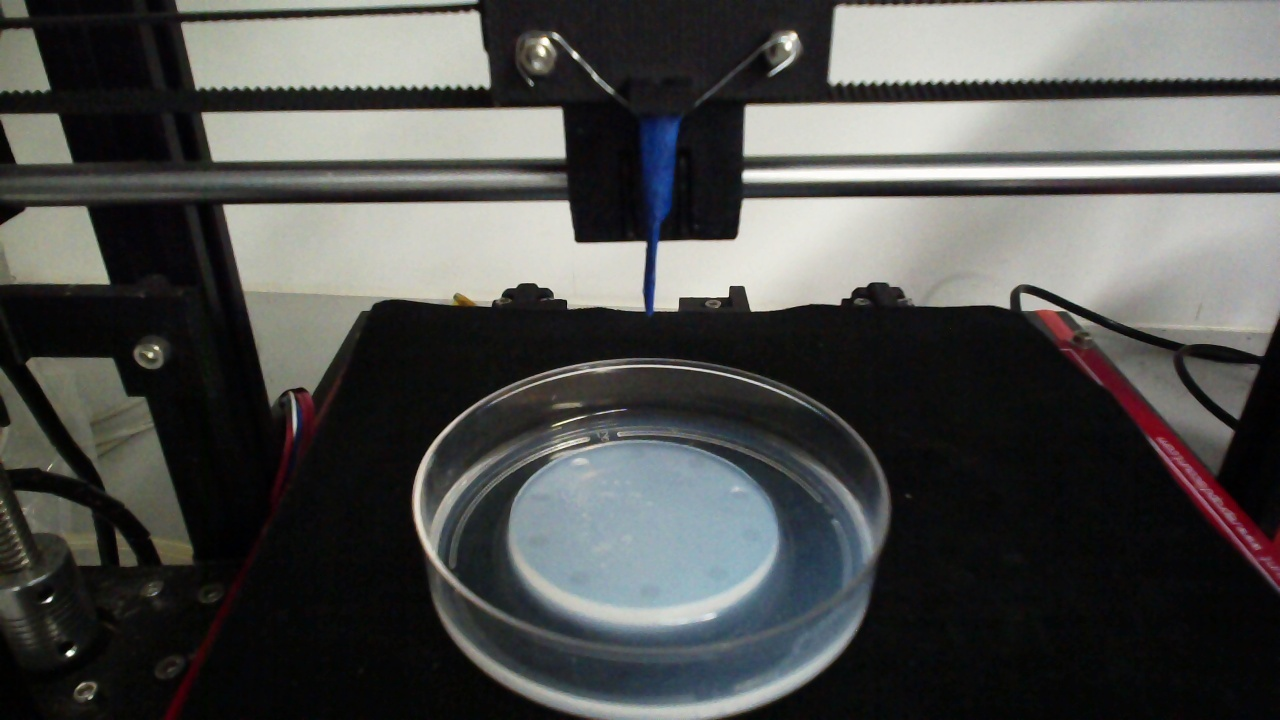groove: (566, 569, 591, 589), (636, 581, 661, 601), (528, 486, 554, 504), (740, 525, 762, 544), (524, 530, 547, 548), (705, 565, 728, 582), (569, 455, 589, 471), (684, 456, 706, 470), (624, 447, 646, 461), (729, 486, 748, 500)
needle: (641, 116, 677, 316)
